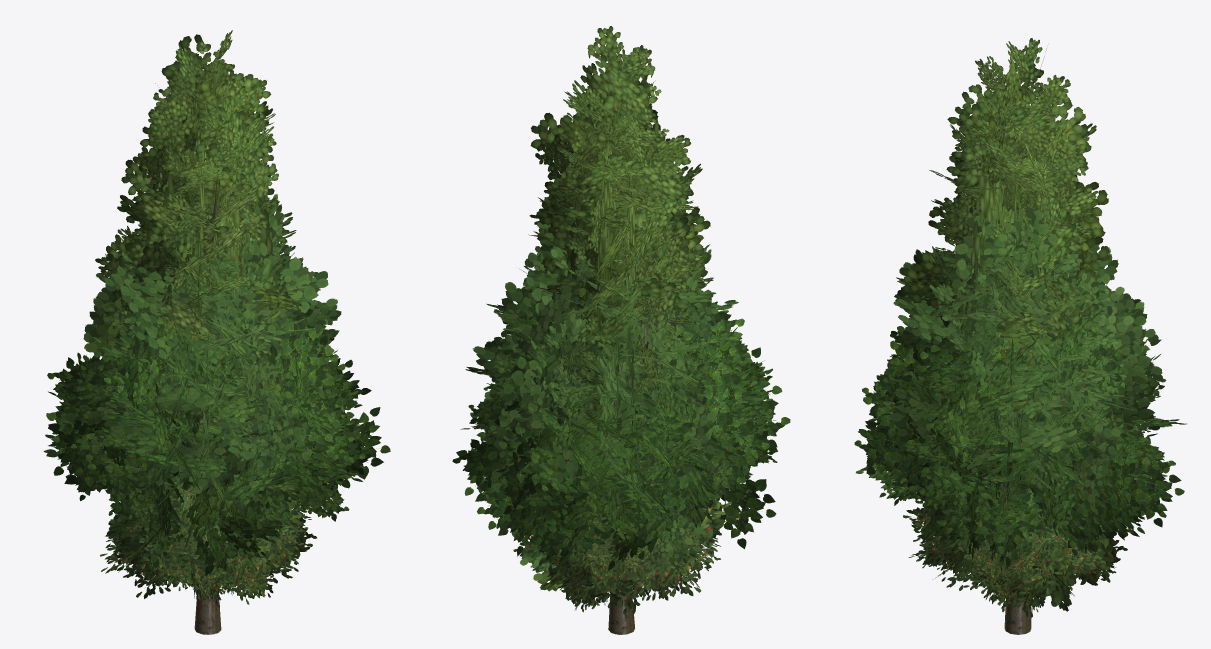
The model's file is trees.glb.
The picture shows the model from 3 angles, left to right: view 1: azimuth 30°, elevation 25°; view 2: azimuth 150°, elevation 25°; view 3: azimuth 270°, elevation 25°; orthographic projection.
Visible parts, largest first — view 1: tree_deciduous_LOD1_leaves, tree_riparian_LOD1_leaves, tree_poplar_LOD1_leaves, tree_deciduous_LOD0_leaves, tree_poplar_LOD0_leaves, tree_riparian_LOD0_leaves, tree_orchard_LOD1_leaves, tree_riparian_LOD2_leaves, tree_orchard_LOD0_leaves, tree_poplar_LOD2_leaves, tree_orchard_LOD2_leaves, tree_garden_LOD1_leaves (+3 smaller); view 2: tree_deciduous_LOD1_leaves, tree_poplar_LOD1_leaves, tree_riparian_LOD1_leaves, tree_poplar_LOD0_leaves, tree_deciduous_LOD0_leaves, tree_riparian_LOD0_leaves, tree_orchard_LOD1_leaves, tree_poplar_LOD2_leaves, tree_deciduous_LOD2_leaves, tree_orchard_LOD0_leaves, tree_riparian_LOD2_leaves, tree_garden_LOD1_leaves (+2 smaller); view 3: tree_deciduous_LOD1_leaves, tree_riparian_LOD1_leaves, tree_poplar_LOD1_leaves, tree_deciduous_LOD0_leaves, tree_riparian_LOD0_leaves, tree_poplar_LOD0_leaves, tree_orchard_LOD1_leaves, tree_orchard_LOD0_leaves, tree_poplar_LOD2_leaves, tree_deciduous_LOD2_leaves, tree_riparian_LOD2_leaves, tree_garden_LOD1_leaves (+3 smaller).
Boxes of the visible parts, <box> form: tree_deciduous_LOD1_leaves: <box>43,298,390,576</box>; tree_riparian_LOD1_leaves: <box>64,194,341,510</box>; tree_poplar_LOD1_leaves: <box>95,34,302,457</box>; tree_deciduous_LOD0_leaves: <box>50,313,371,568</box>; tree_poplar_LOD0_leaves: <box>104,30,288,450</box>; tree_riparian_LOD0_leaves: <box>91,199,346,494</box>; tree_orchard_LOD1_leaves: <box>100,458,316,604</box>; tree_riparian_LOD2_leaves: <box>117,280,298,489</box>; tree_orchard_LOD0_leaves: <box>113,486,311,607</box>; tree_poplar_LOD2_leaves: <box>156,115,272,333</box>; tree_orchard_LOD2_leaves: <box>117,505,302,599</box>; tree_garden_LOD1_leaves: <box>106,456,302,577</box>; tree_deciduous_LOD1_leaves: <box>452,288,790,570</box>; tree_poplar_LOD1_leaves: <box>522,55,713,416</box>; tree_riparian_LOD1_leaves: <box>465,184,764,519</box>; tree_poplar_LOD0_leaves: <box>535,26,709,415</box>; tree_deciduous_LOD0_leaves: <box>468,316,777,563</box>; tree_riparian_LOD0_leaves: <box>484,231,737,498</box>; tree_orchard_LOD1_leaves: <box>513,496,731,618</box>; tree_poplar_LOD2_leaves: <box>563,99,681,383</box>; tree_deciduous_LOD2_leaves: <box>507,378,717,538</box>; tree_orchard_LOD0_leaves: <box>525,509,720,612</box>; tree_riparian_LOD2_leaves: <box>562,267,738,431</box>; tree_garden_LOD1_leaves: <box>520,505,716,591</box>; tree_deciduous_LOD1_leaves: <box>854,307,1186,573</box>; tree_riparian_LOD1_leaves: <box>890,207,1162,527</box>; tree_poplar_LOD1_leaves: <box>902,48,1111,502</box>; tree_deciduous_LOD0_leaves: <box>865,323,1166,560</box>; tree_riparian_LOD0_leaves: <box>883,219,1150,515</box>; tree_poplar_LOD0_leaves: <box>917,38,1098,466</box>; tree_orchard_LOD1_leaves: <box>903,485,1127,618</box>; tree_orchard_LOD0_leaves: <box>909,506,1116,612</box>; tree_poplar_LOD2_leaves: <box>960,111,1084,306</box>; tree_deciduous_LOD2_leaves: <box>912,373,1127,525</box>; tree_riparian_LOD2_leaves: <box>952,299,1103,472</box>; tree_garden_LOD1_leaves: <box>916,477,1113,611</box>.
Size of the model in its own units: 12.71 by 22.89 by 12.37.
2 materials, 2 textured.
